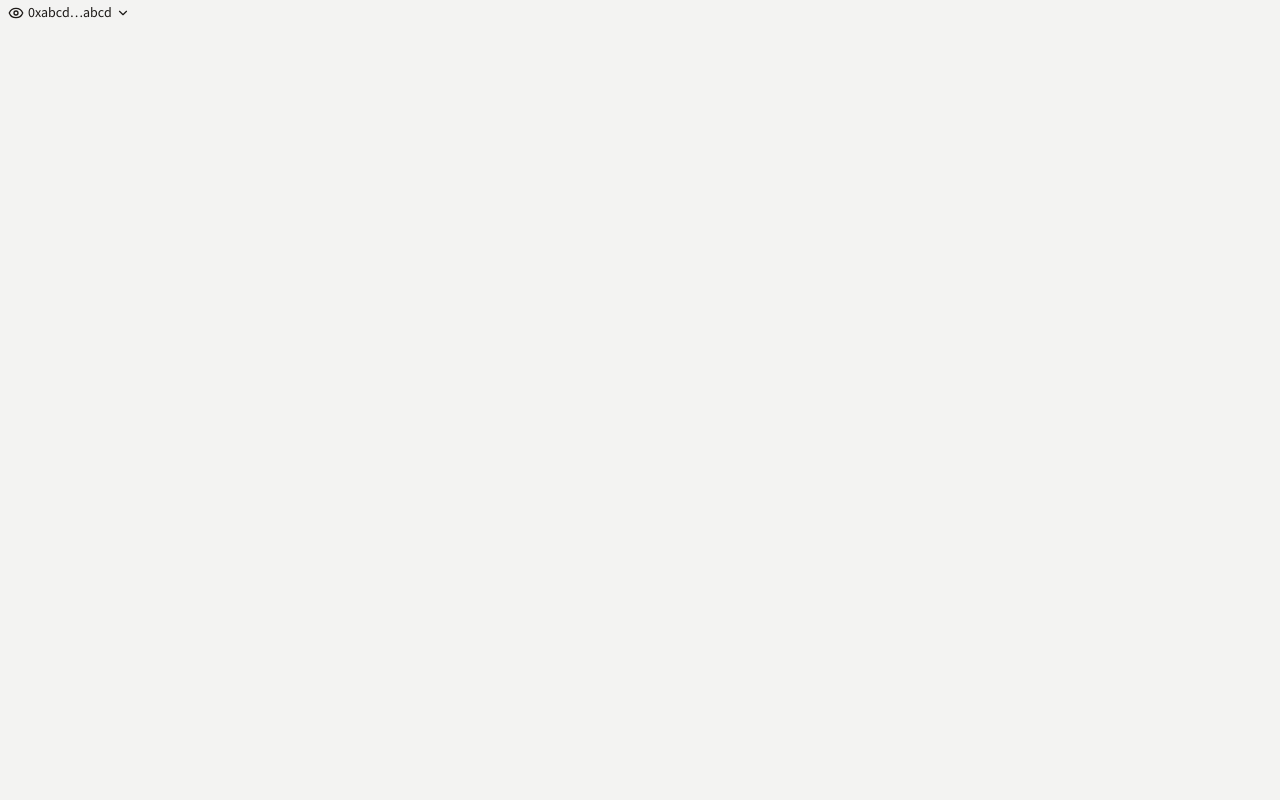
Test: WalletButton — watch mode connected › shows popover menu with Copy address, Switch wallet, View another address, and Disconnect
Click the button with aria-label "viewing". click: click(69, 13)
box: [0,0,138,26]
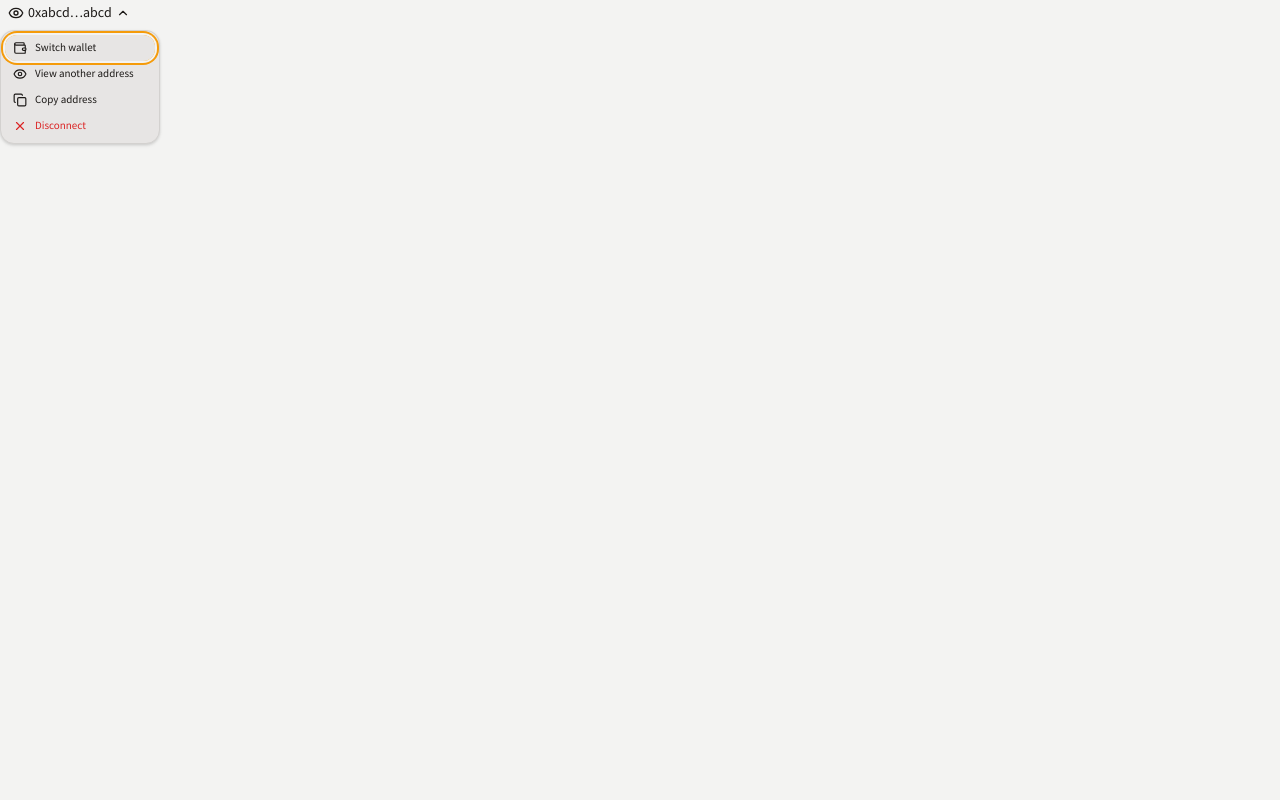
Expected: the button "Copy address" is shown, [5,87,155,113]
Expected: the button "Switch wallet" is shown, [5,35,155,61]
Expected: the button "View another address" is shown, [5,61,155,87]
